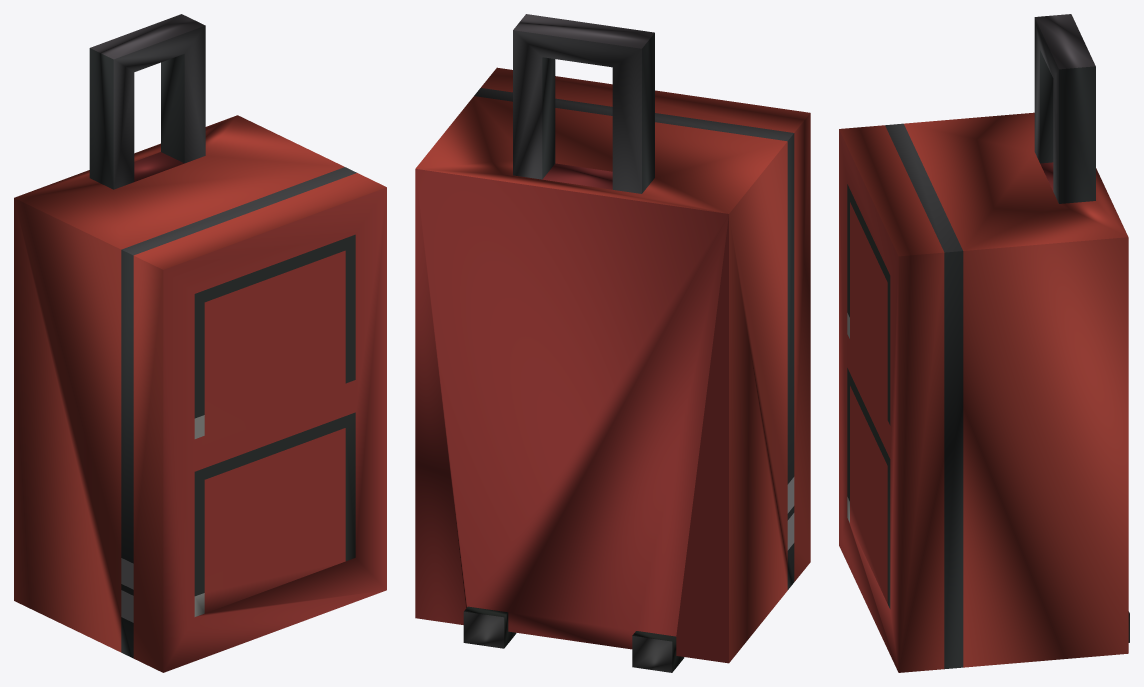
The model's file is apoc_prop_75.glb.
3 views of the same model, side by side, from view 1: azimuth 30°, elevation 25°; view 2: azimuth 150°, elevation 25°; view 3: azimuth 270°, elevation 25° (orthographic). The views are drawn at different scales.
Visible parts, largest first — view 1: prop_077; view 2: prop_077; view 3: prop_077.
Part boxes in pixels (x1,y1,x2,y2): prop_077: (14, 14, 386, 672); prop_077: (415, 14, 810, 672); prop_077: (839, 14, 1129, 672).
Size of the model in its own units: 0.1334 by 0.2387 by 0.1119.
1 material, 1 textured.
